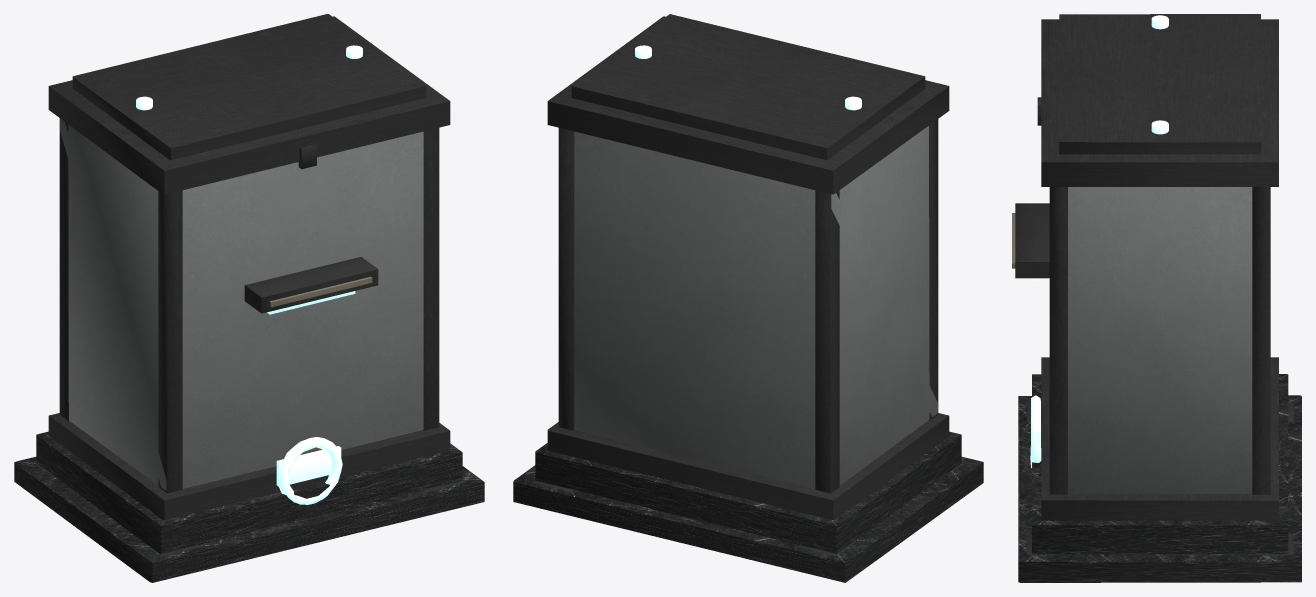
Rendered from hp_room_l07_p09.glb.
The picture shows the model from 3 angles, left to right: view 1: azimuth 30°, elevation 25°; view 2: azimuth 150°, elevation 25°; view 3: azimuth 270°, elevation 25°; orthographic projection. The views are drawn at different scales.
Parts seen in each view (by area): view 1: room_l07_p09; view 2: room_l07_p09; view 3: room_l07_p09.
Boxes of the visible parts, x1,y1,x2,y2 form: room_l07_p09: (14, 14, 484, 582); room_l07_p09: (513, 14, 983, 582); room_l07_p09: (1012, 14, 1301, 582).
Bounding box in the file's own units: 0.86 × 1.03 × 0.6297.
Materials: 8 (6 with a texture image).
